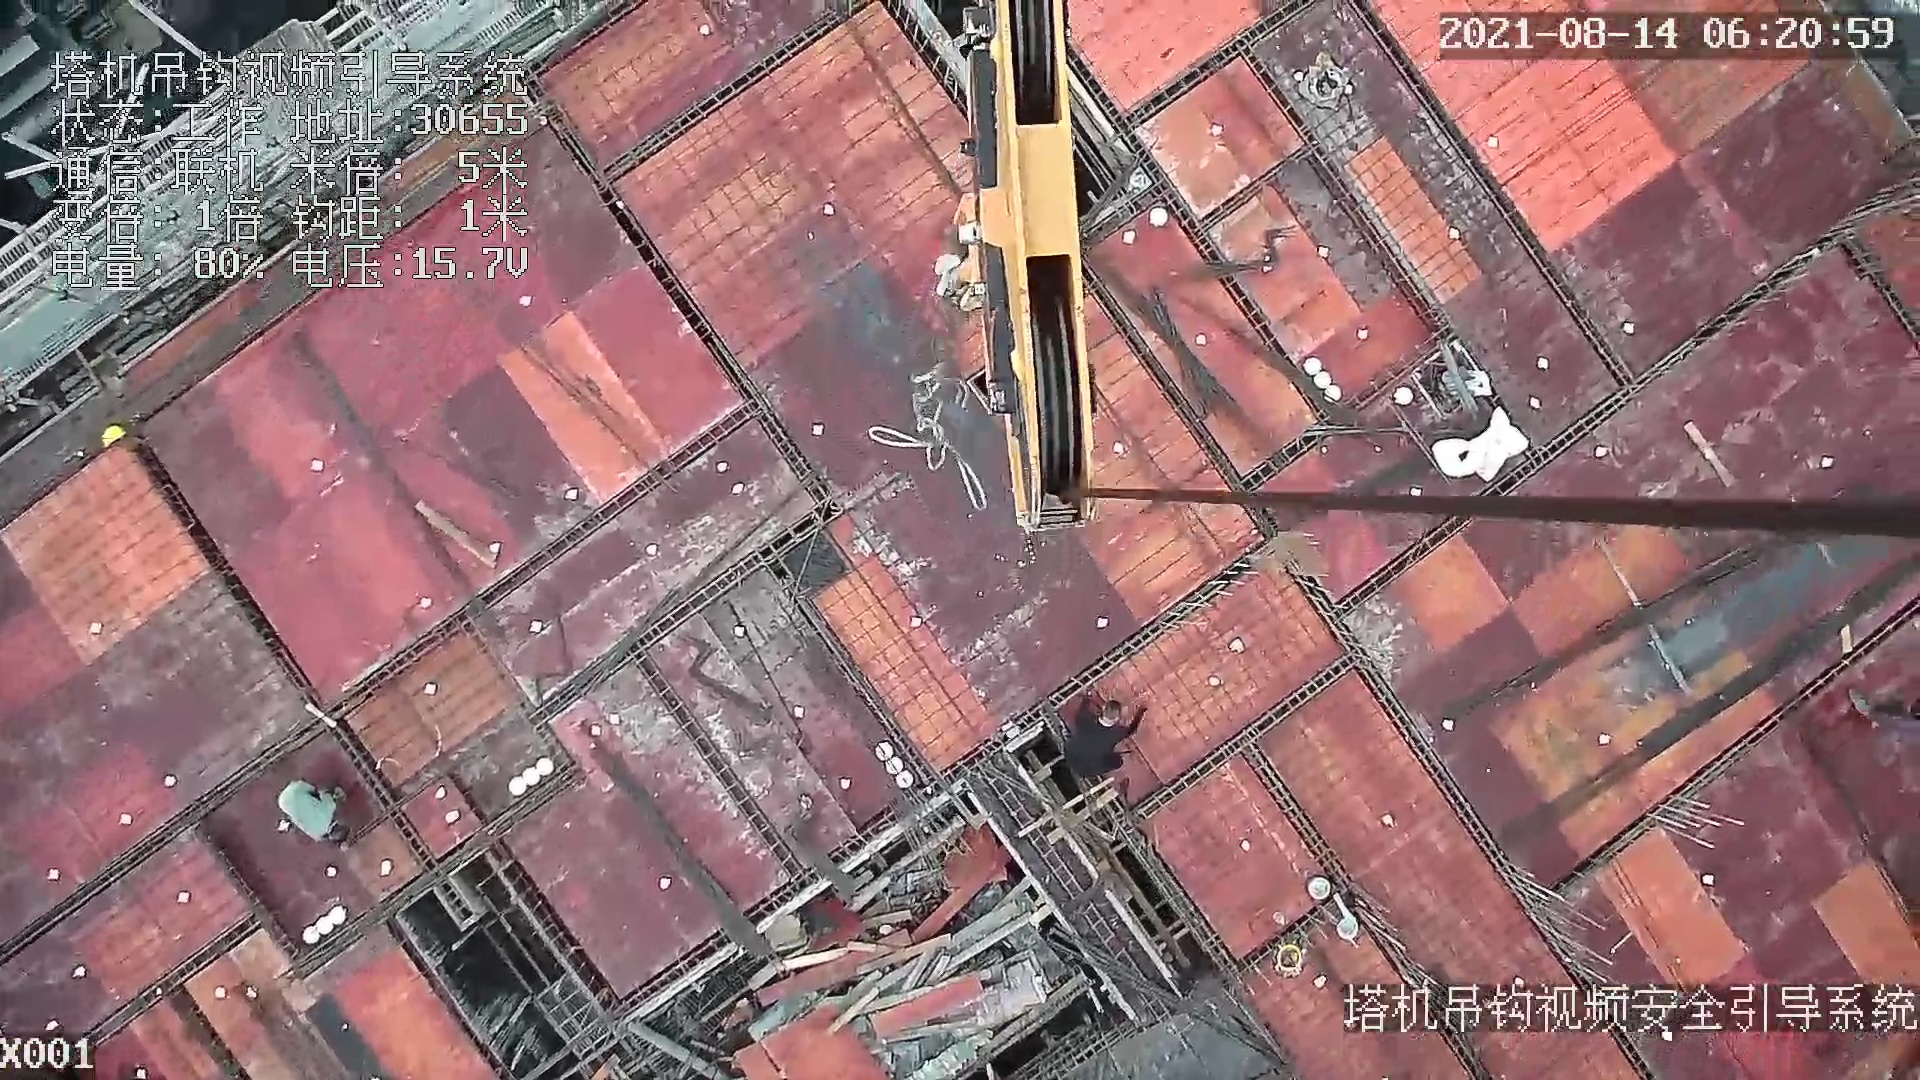hook: (905, 1, 1104, 535)
